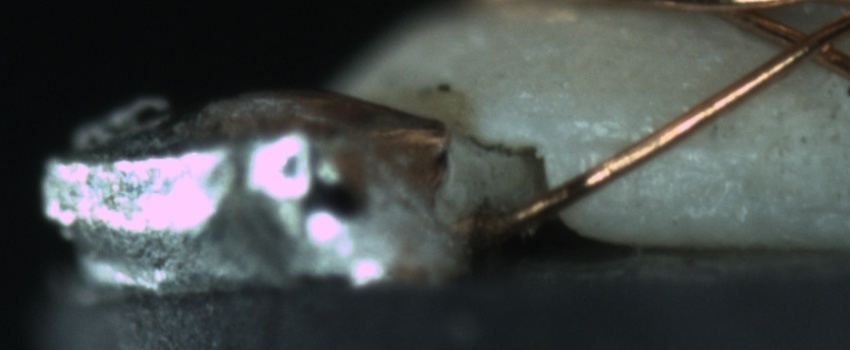CL: (758, 13, 846, 76)
DL: (567, 110, 712, 171)
